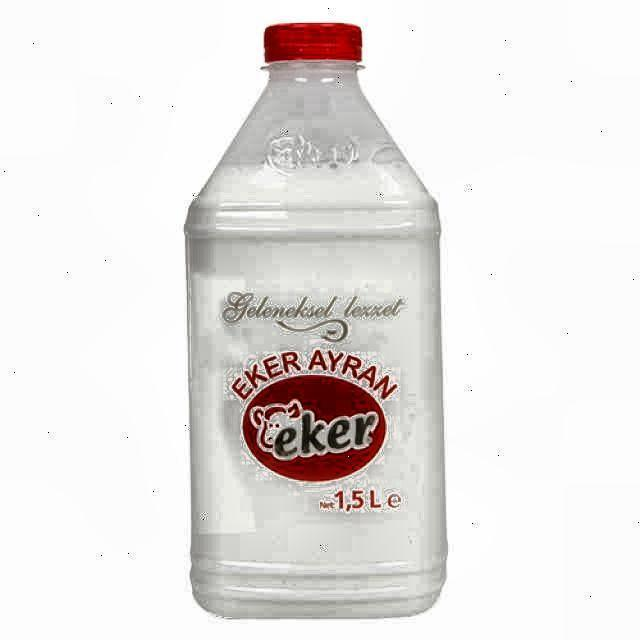plastic: (181, 19, 449, 621)
